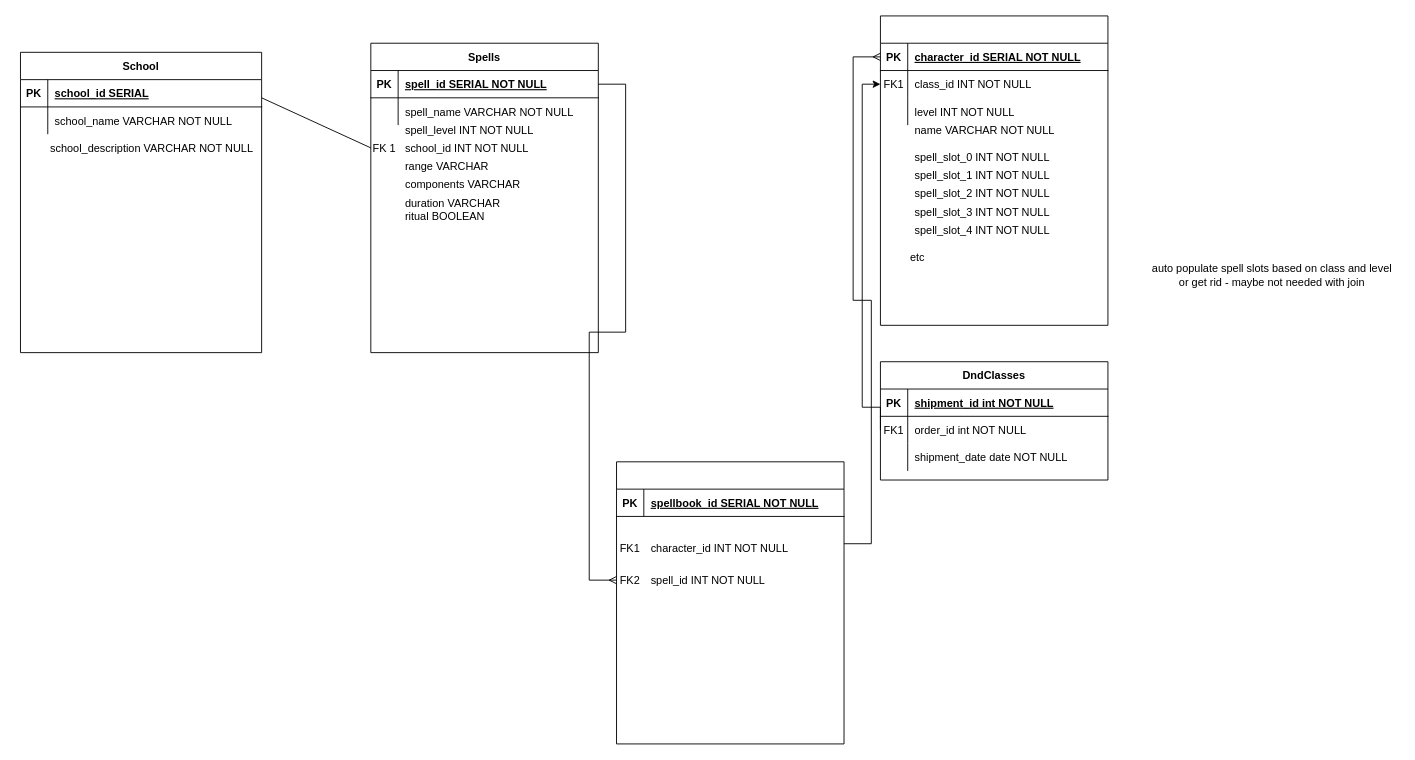
The diagram is 1415 pixels wide and 760 high, and some of its shapes have lost their labels. Here are the shapes that lost their labels. From the top down, the box of each, then its label:
(880, 15, 1108, 325): Characters
(616, 461, 844, 744): characters_spells
